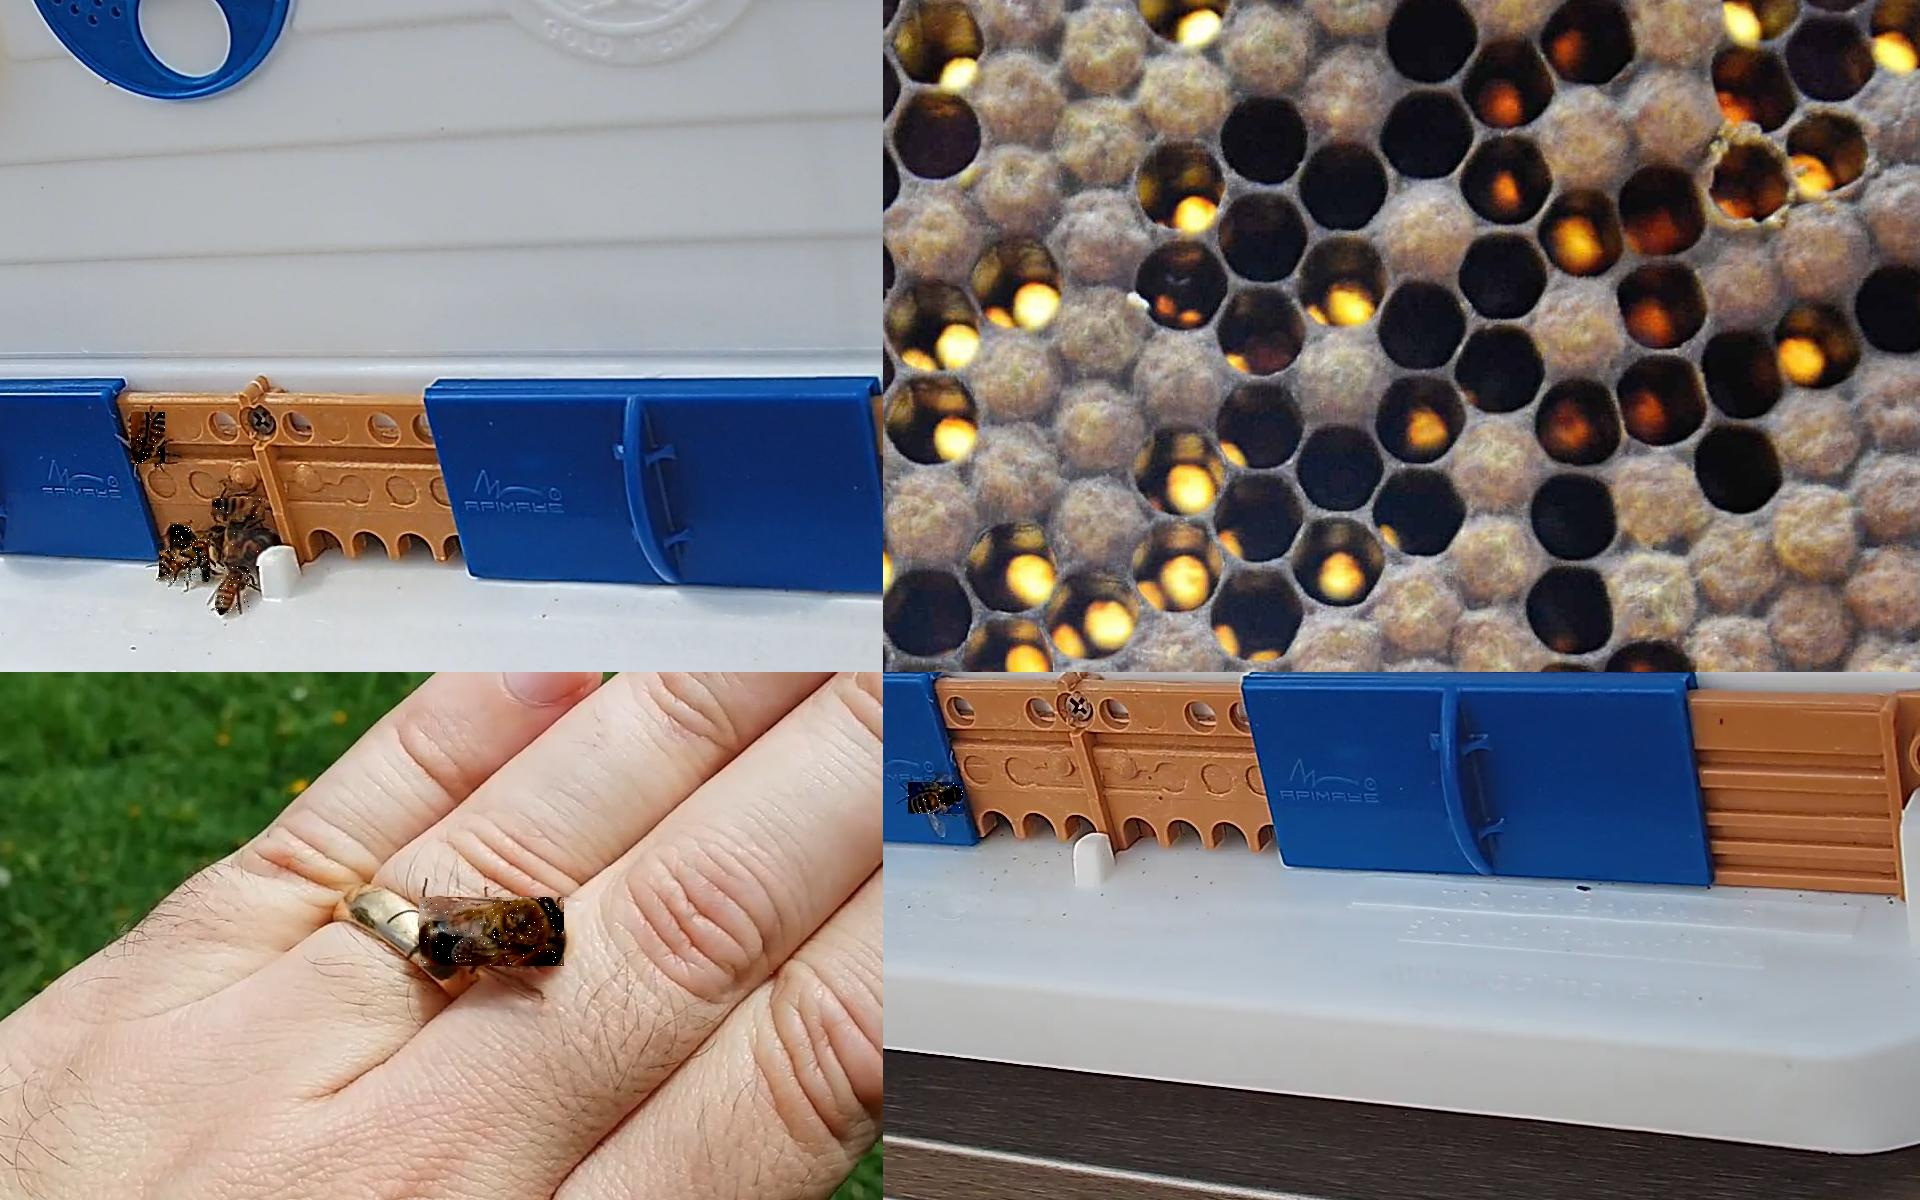bee: (131, 413, 166, 468), (908, 782, 964, 815), (229, 530, 277, 567), (215, 567, 251, 614), (159, 551, 203, 586), (212, 499, 266, 520), (192, 539, 210, 582), (170, 522, 192, 551)
drone: (419, 897, 565, 967)
